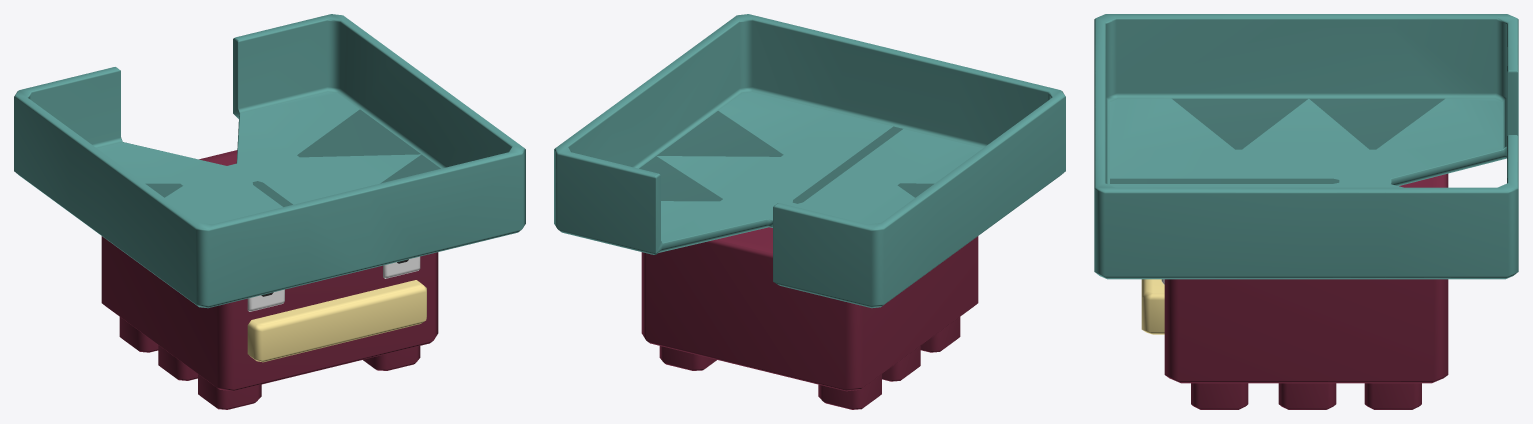
Rendered from model_shiny.obj.
3 renders of one model, left to right at view 1: azimuth 30°, elevation 25°; view 2: azimuth 150°, elevation 25°; view 3: azimuth 270°, elevation 25°, orthographic. The views are drawn at different scales.
Parts seen in each view (by area): view 1: 0270_lotad_shiny; view 2: 0270_lotad_shiny; view 3: 0270_lotad_shiny.
Boxes of the visible parts, x1,y1,x2,y2 form: 0270_lotad_shiny: [14, 14, 525, 409]; 0270_lotad_shiny: [554, 14, 1065, 409]; 0270_lotad_shiny: [1094, 14, 1518, 409].
Size of the model in its own units: 1.66 by 1.1 by 1.67.
Materials: 1 (1 with a texture image).
